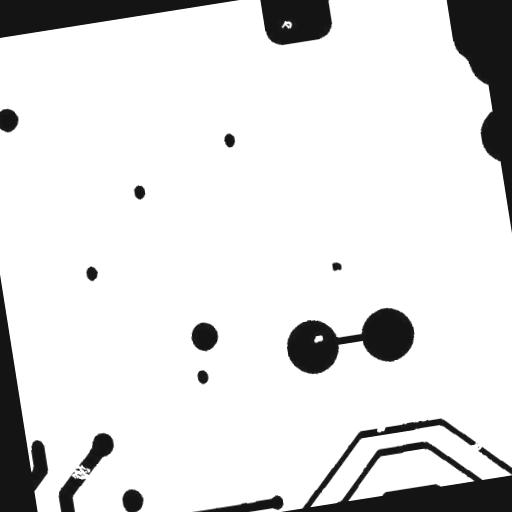copper: (322, 252, 350, 278)
mousebite: (367, 416, 394, 440)
open: (58, 454, 100, 489), (456, 429, 490, 460)
pin-hole: (271, 10, 300, 38), (304, 326, 331, 351)
short: (323, 322, 379, 353), (120, 500, 144, 512)
